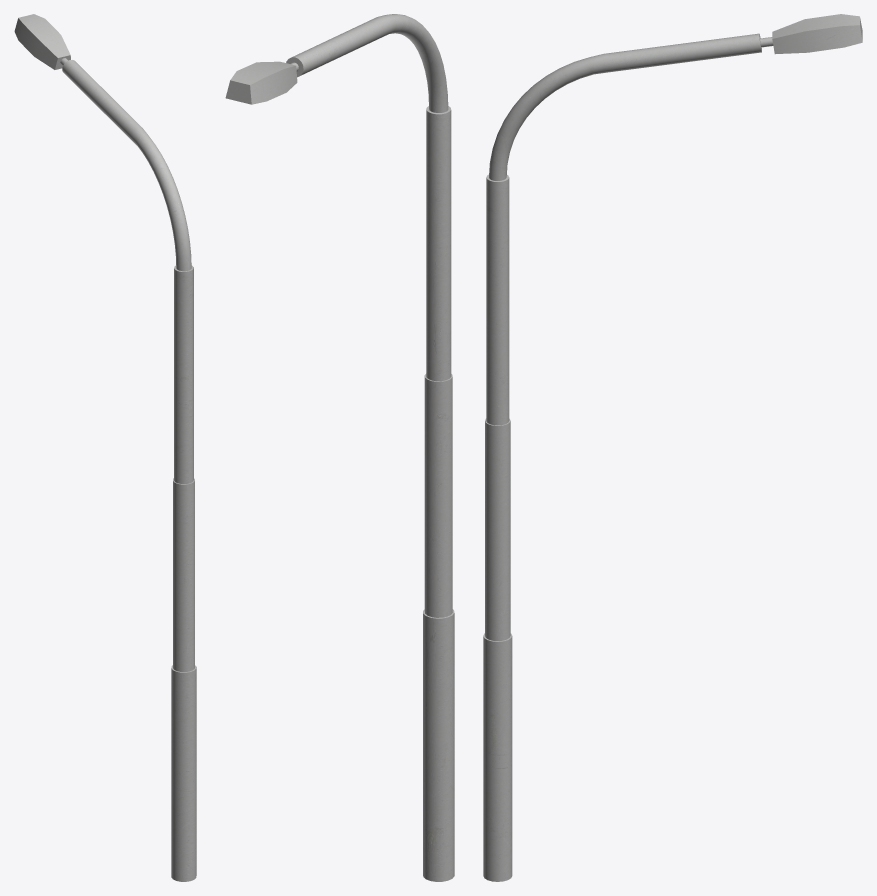
The model's file is Lightpole.FBX.
The picture shows the model from 3 angles, left to right: view 1: azimuth 30°, elevation 25°; view 2: azimuth 150°, elevation 25°; view 3: azimuth 270°, elevation 25°; orthographic projection. The views are drawn at different scales.
Parts seen in each view (by area): view 1: Lightpole; view 2: Lightpole; view 3: Lightpole.
Part boxes in pixels (x1,y1,x2,y2): Lightpole: [14, 14, 196, 881]; Lightpole: [225, 14, 454, 881]; Lightpole: [483, 14, 862, 881].
Size of the model in its own units: 52.68 by 523 by 1300.
